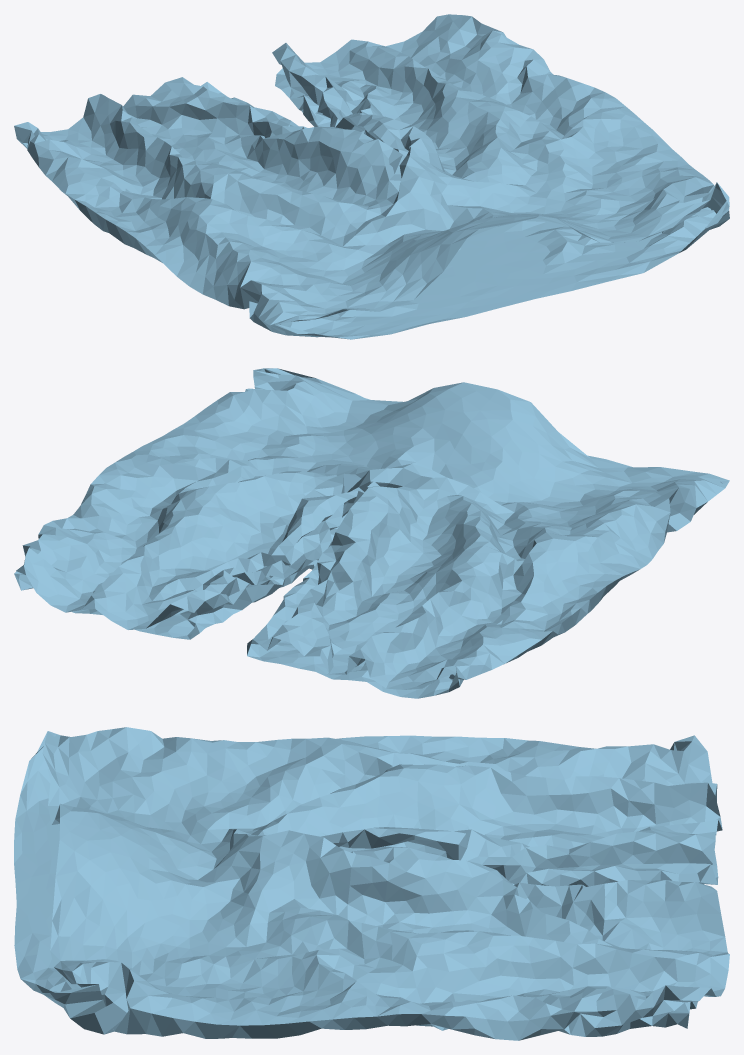
File: frame_01.glb
3 renders of one model, top to bottom at view 1: azimuth 30°, elevation 25°; view 2: azimuth 150°, elevation 25°; view 3: azimuth 270°, elevation 25°, orthographic. The views are drawn at different scales.
Visible parts, largest first — view 1: frame_01.obj; view 2: frame_01.obj; view 3: frame_01.obj.
Boxes of the visible parts, x1,y1,x2,y2 form: frame_01.obj: [14, 14, 729, 339]; frame_01.obj: [14, 368, 729, 698]; frame_01.obj: [14, 727, 729, 1040].
Bounding box in the file's own units: 1.45 × 0.2051 × 1.5.
